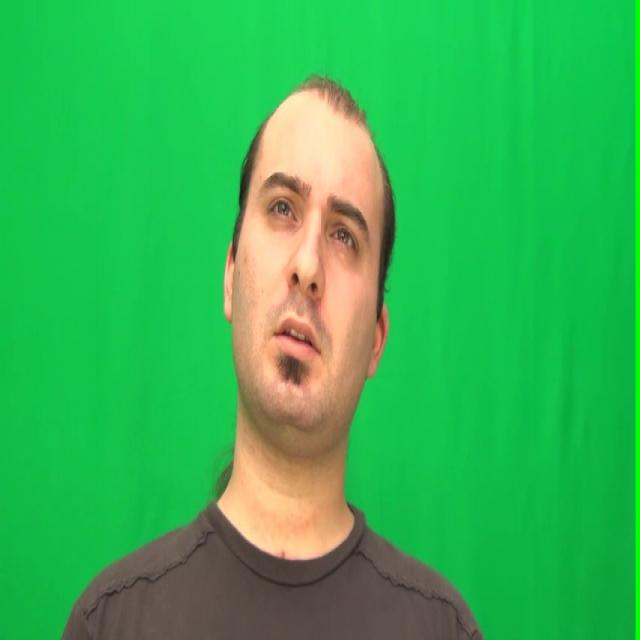Engaged: (241, 95, 376, 433)
